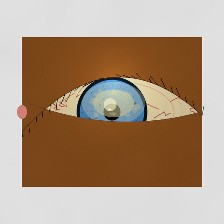corneal_ulcer: (80, 77, 147, 130)
